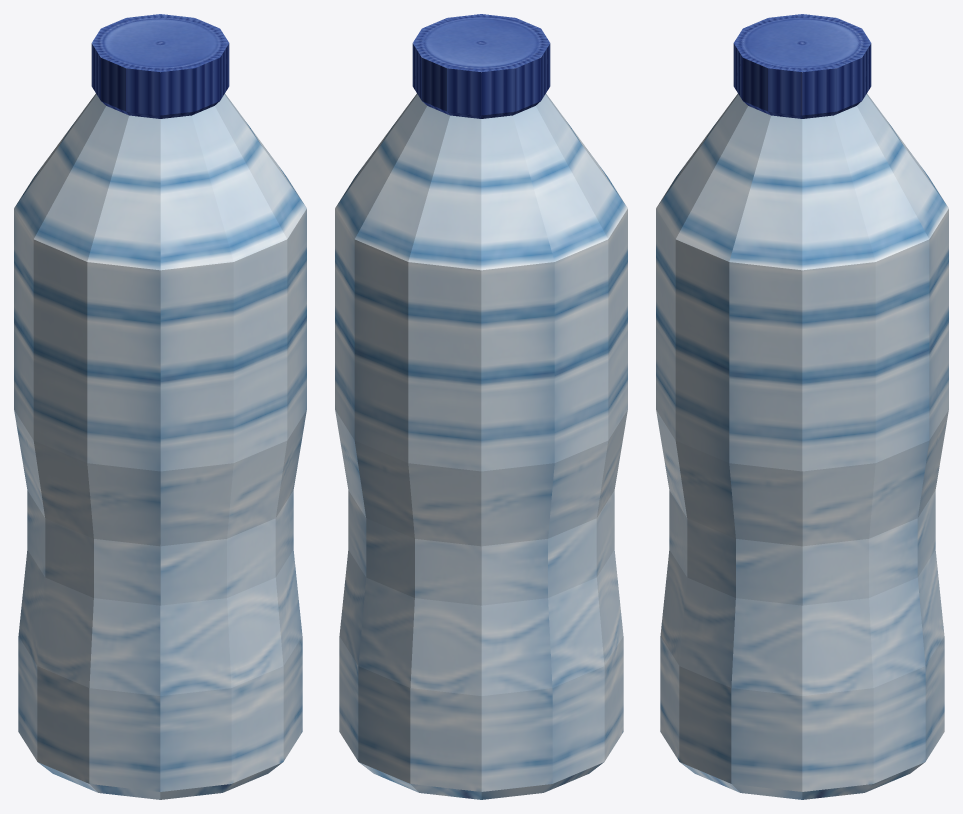
File: Waterbottle.fbx
3 renders of one model, left to right at view 1: azimuth 30°, elevation 25°; view 2: azimuth 150°, elevation 25°; view 3: azimuth 270°, elevation 25°, orthographic.
Visible parts, largest first — view 1: Waterbottle; view 2: Waterbottle; view 3: Waterbottle.
Part boxes in pixels (bbox=[...]): Waterbottle: bbox=[14, 14, 306, 799]; Waterbottle: bbox=[335, 14, 627, 799]; Waterbottle: bbox=[656, 14, 948, 799].
Size of the model in its own units: 2.06 by 5.47 by 2.06.
